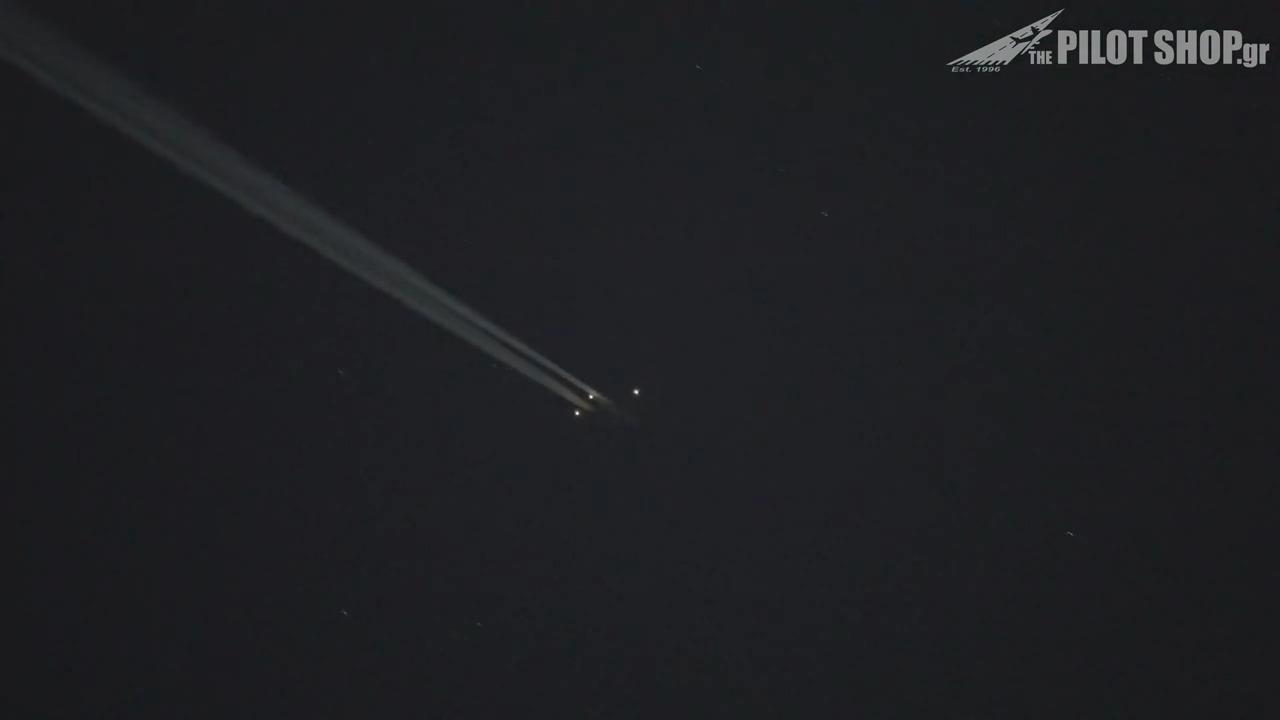Plane: (569, 363, 658, 437)
